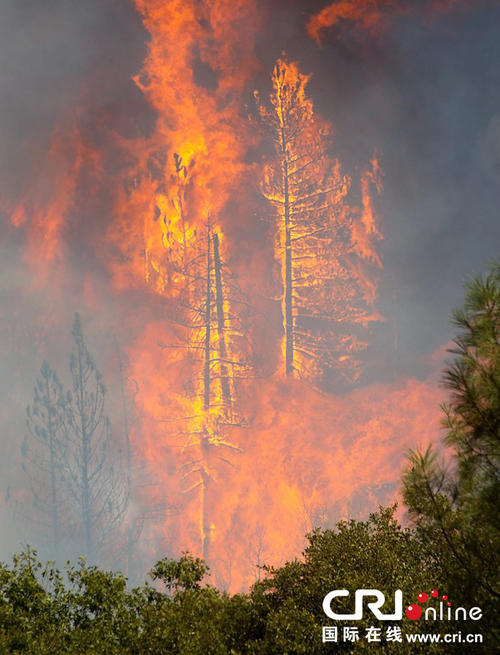fire: (74, 13, 368, 582)
smoke: (391, 32, 500, 337)
